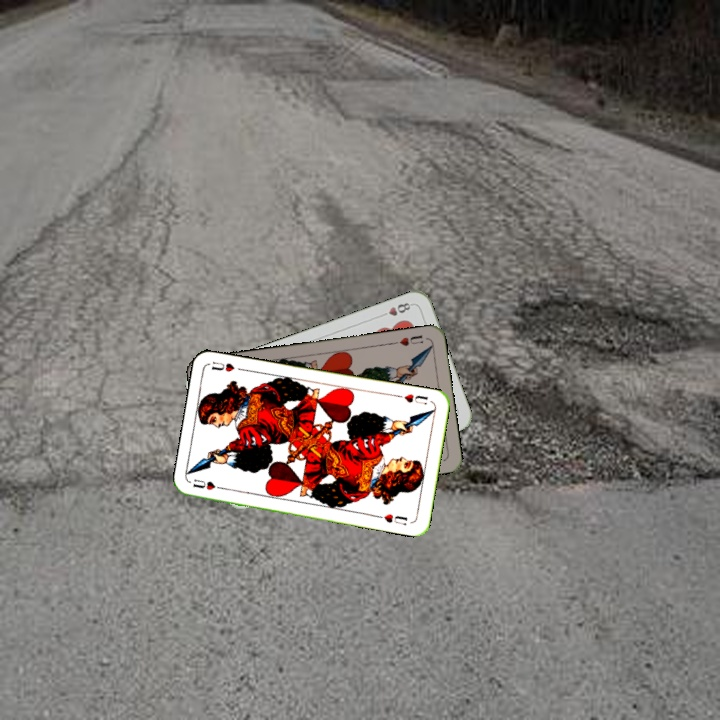H8: (376, 298, 415, 320)
HU: (388, 331, 425, 349), (189, 475, 228, 492), (394, 390, 430, 407)
